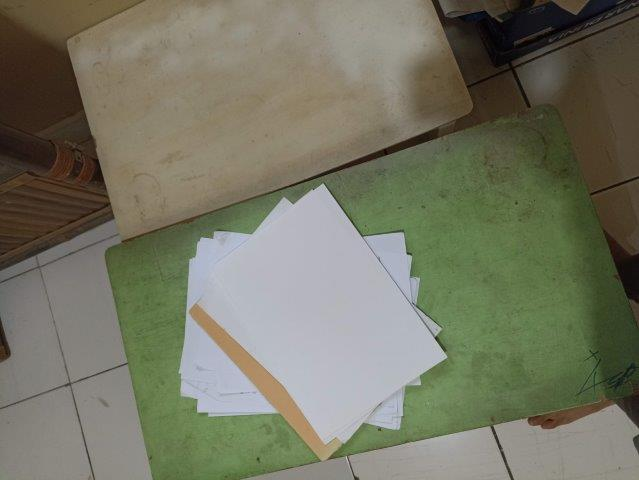kertas: (179, 182, 448, 458)
